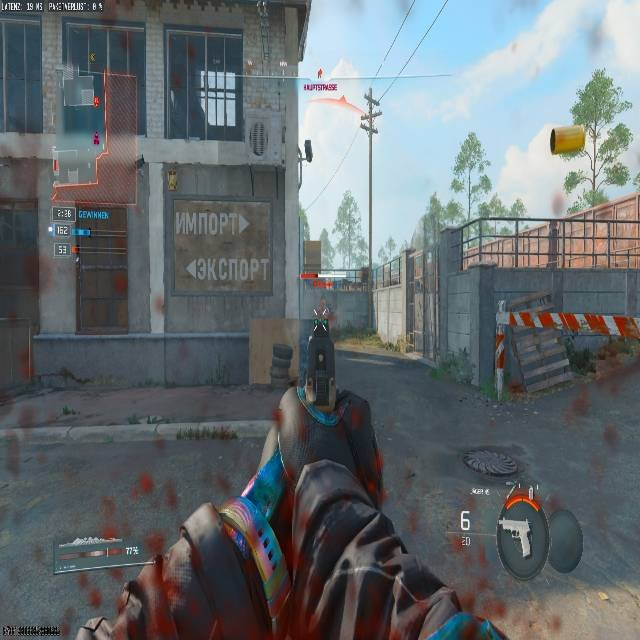head: (319, 297, 327, 307)
player: (315, 298, 333, 328)
